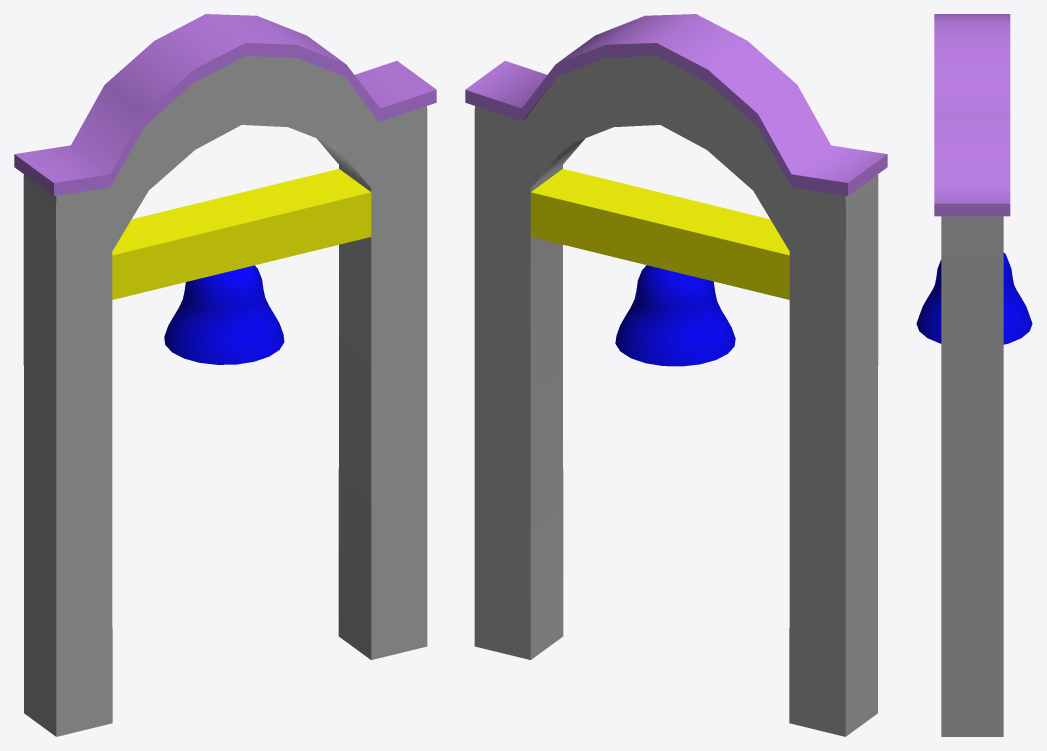
File: bell.fbx
3 views of the same model, side by side, from view 1: azimuth 30°, elevation 25°; view 2: azimuth 150°, elevation 25°; view 3: azimuth 270°, elevation 25° (orthographic). The views are drawn at different scales.
Parts seen in each view (by area): view 1: pCube19, pCube25, pSphere3; view 2: pCube19, pCube25, pSphere3; view 3: pCube19, pSphere3.
Boxes of the visible parts, bbox=[...] form: pCube19: bbox=[14, 14, 436, 736]; pCube25: bbox=[112, 169, 371, 299]; pSphere3: bbox=[164, 265, 284, 364]; pCube19: bbox=[465, 14, 887, 736]; pCube25: bbox=[530, 169, 789, 299]; pSphere3: bbox=[615, 265, 735, 366]; pCube19: bbox=[934, 14, 1010, 736]; pSphere3: bbox=[916, 252, 1032, 344].
Size of the model in its own units: 1.68 by 2.73 by 0.4588.
